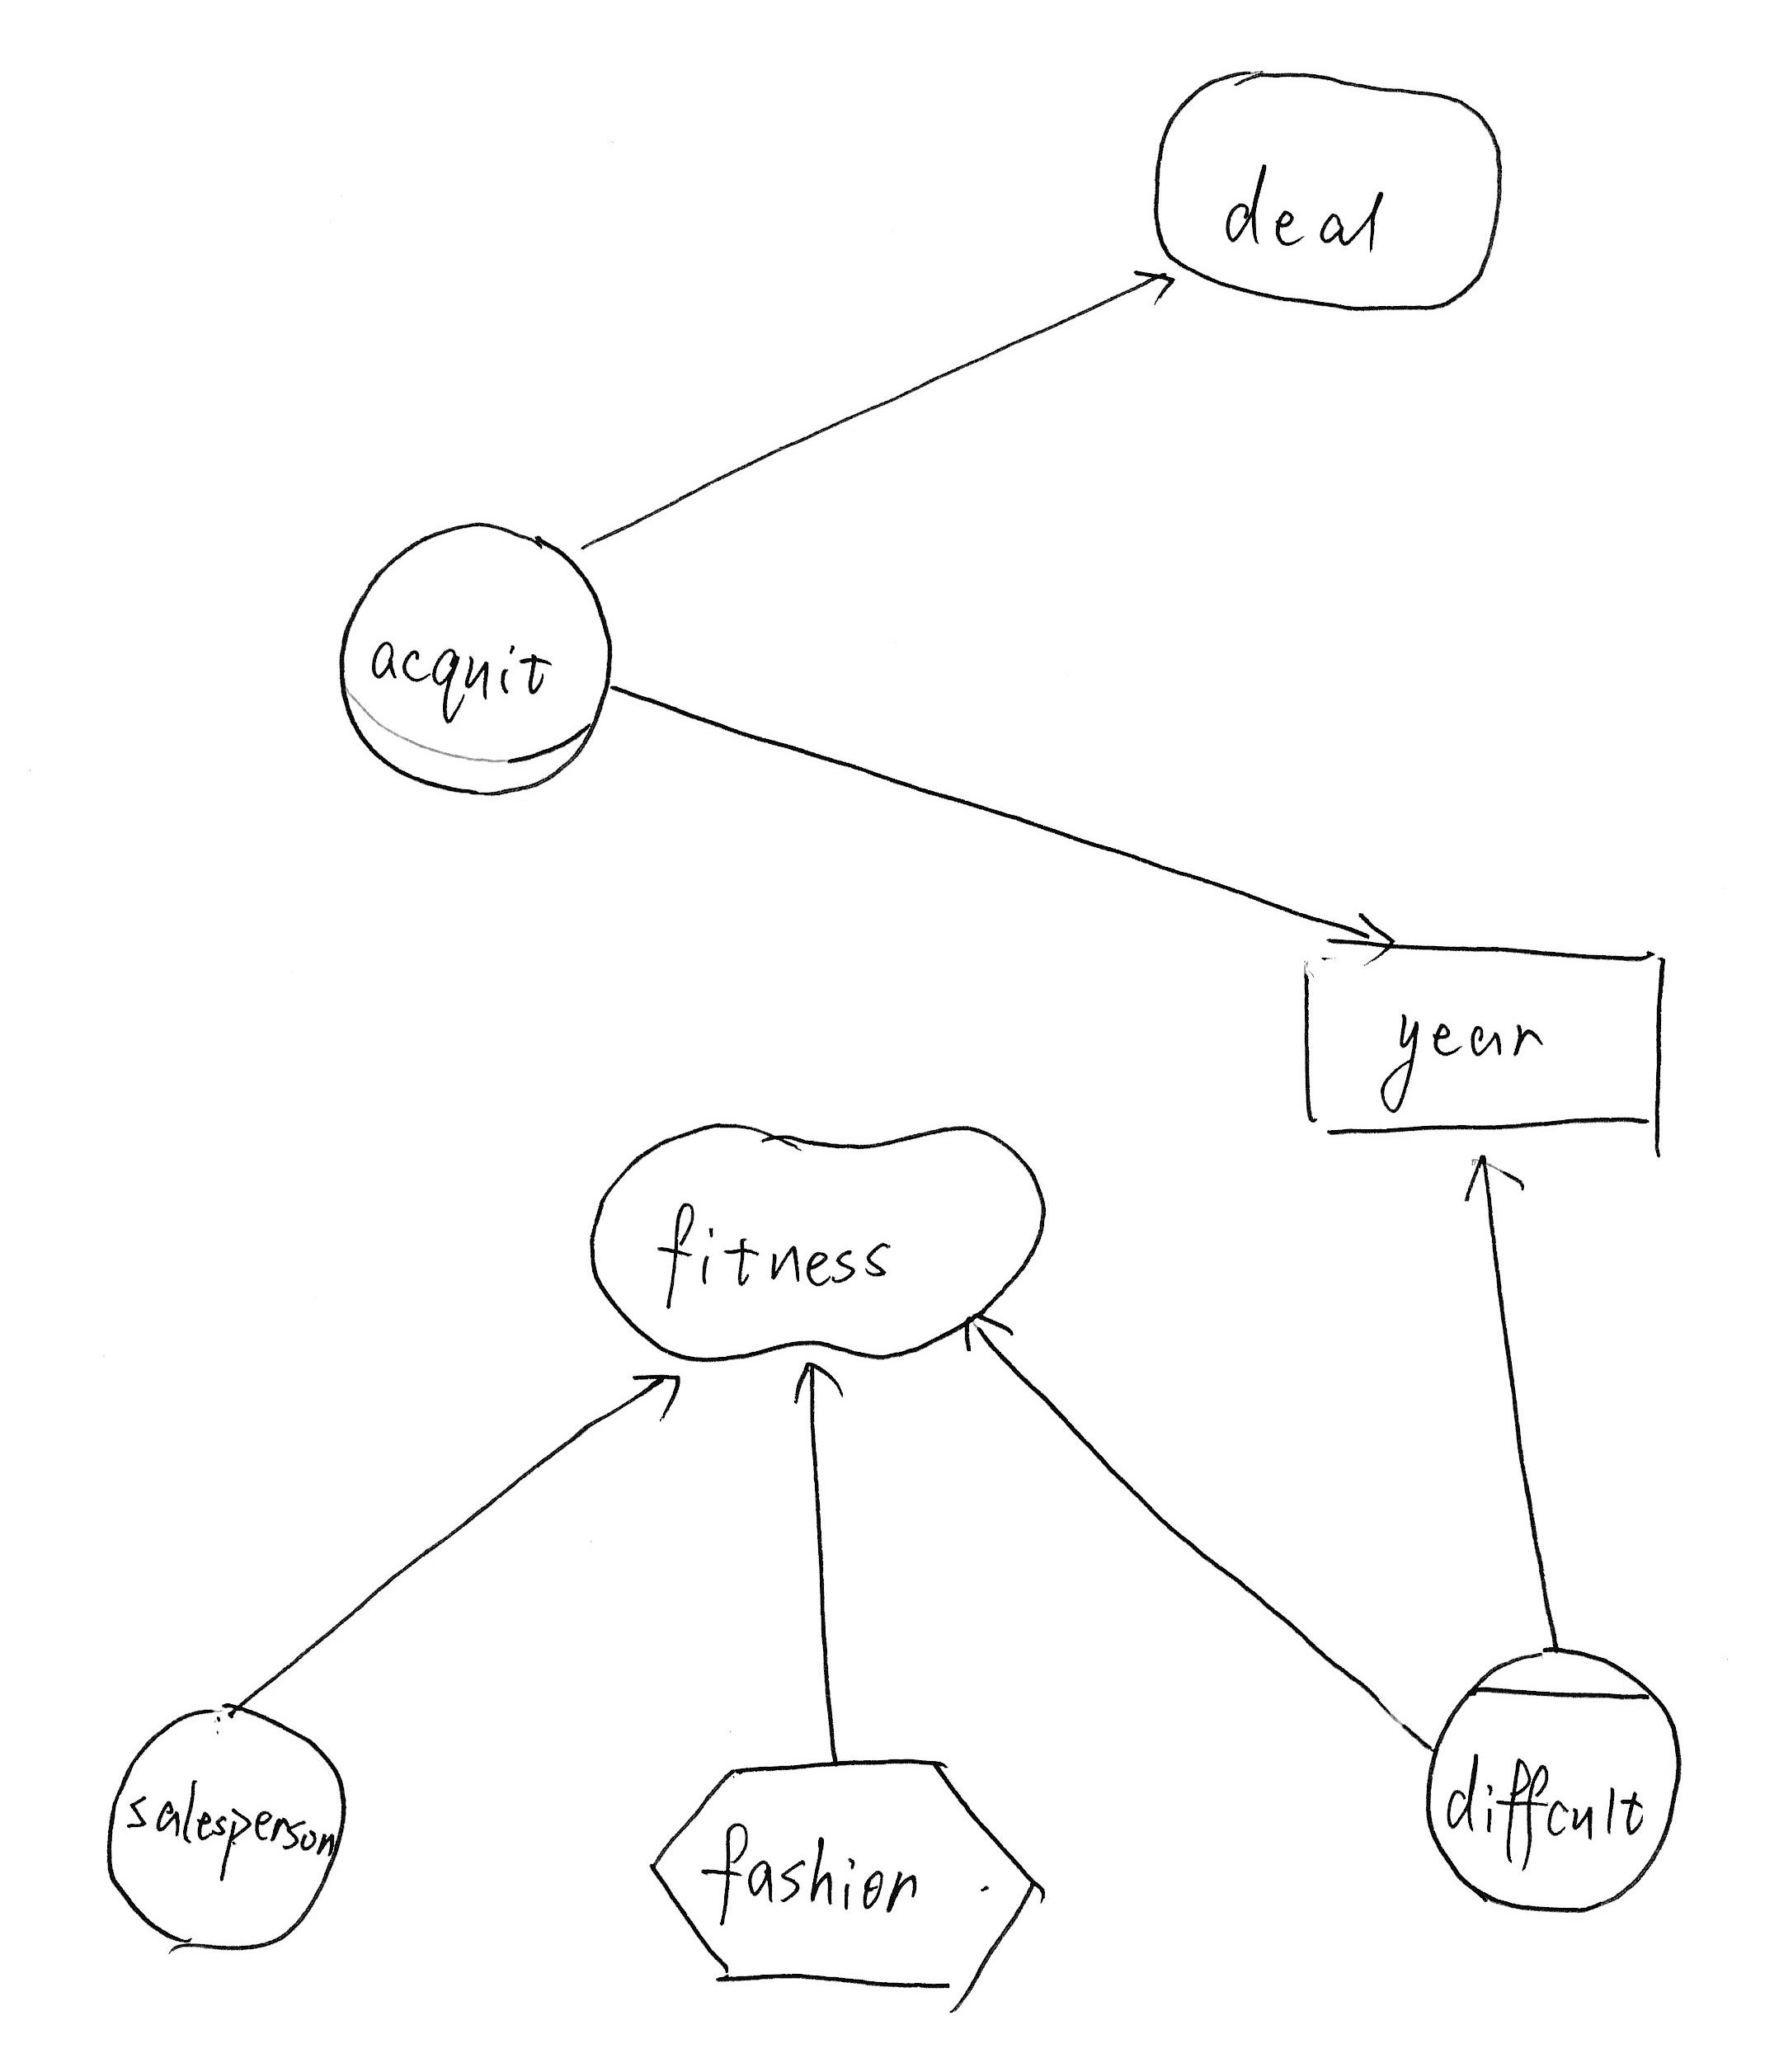actor: (92, 1684, 373, 1972)
agent: (1414, 1635, 1705, 1931)
arrow: (1439, 1136, 1548, 1225), (613, 1357, 703, 1438), (780, 1351, 863, 1422), (1332, 897, 1407, 973), (953, 1302, 1025, 1378), (1117, 252, 1184, 321)
goal: (1136, 46, 1520, 335)
quality: (569, 1106, 1062, 1381)
resource: (1289, 921, 1682, 1168)
role: (324, 509, 620, 816)
task: (638, 1739, 1062, 2023)
